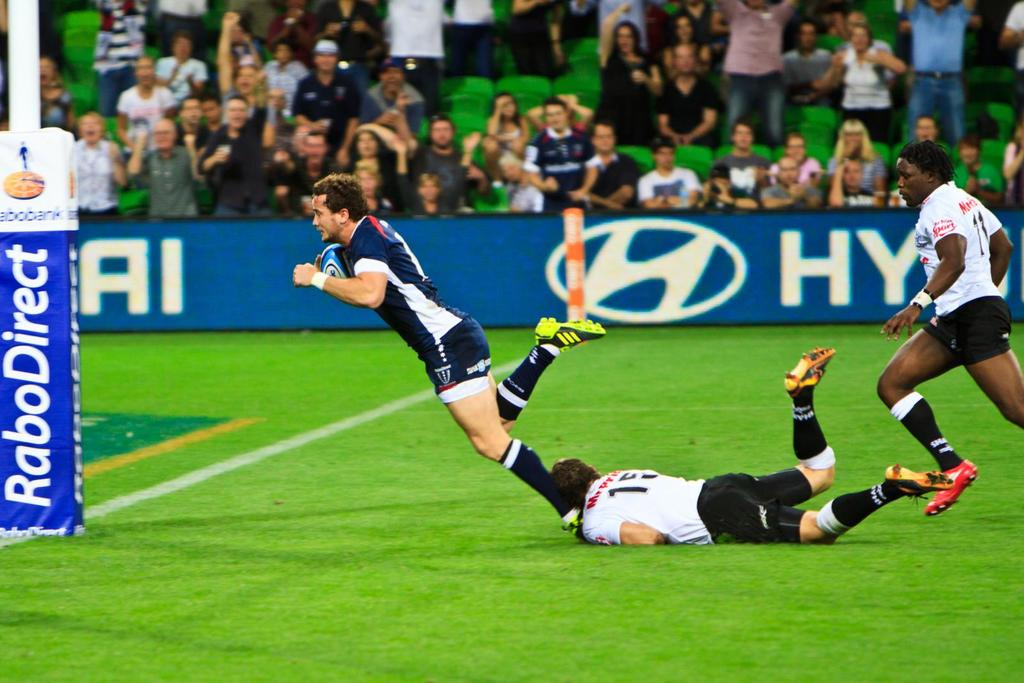Person: (0, 0, 1023, 543)
